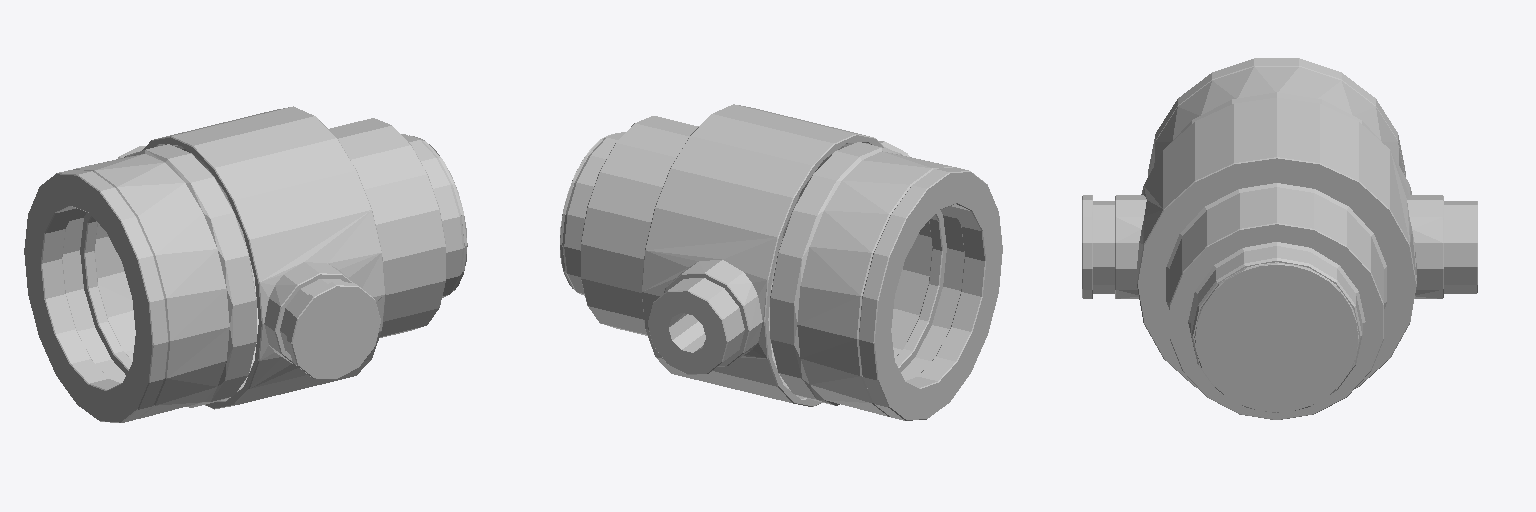
File: arml_t78.obj
3 renders of one model, left to right at view 1: azimuth 30°, elevation 25°; view 2: azimuth 150°, elevation 25°; view 3: azimuth 270°, elevation 25°, orthographic.
Size of the model in its own units: 0.1255 by 0.09 by 0.127.